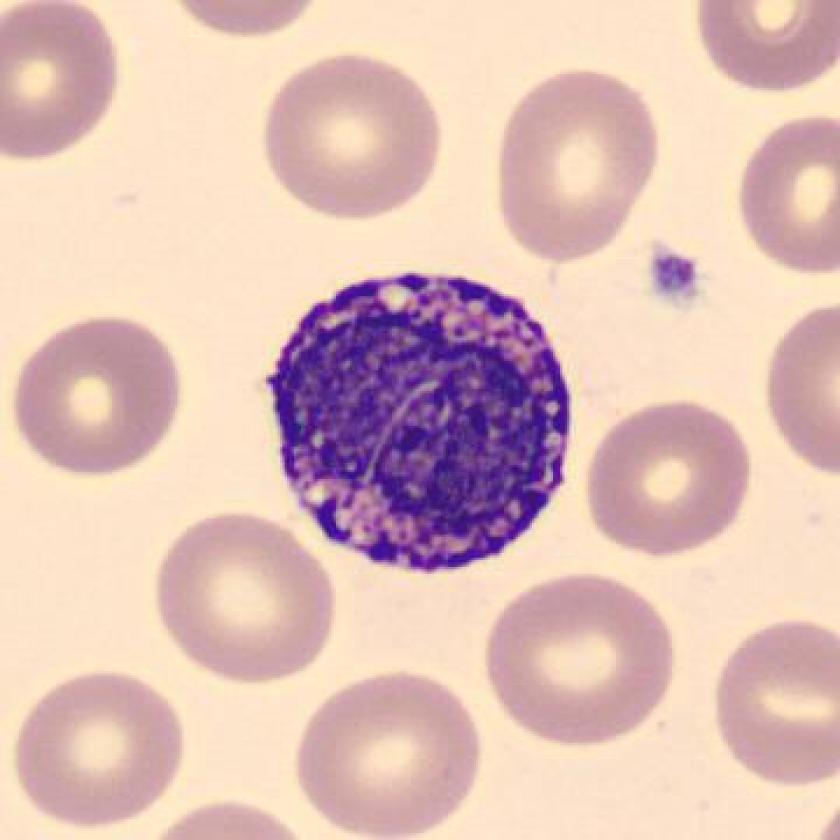basophil: (272, 265, 580, 584)
